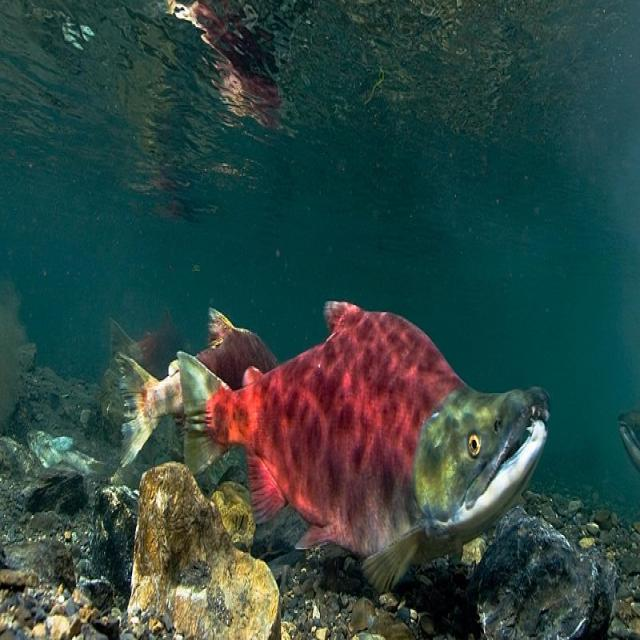salmon: (180, 293, 555, 593)
